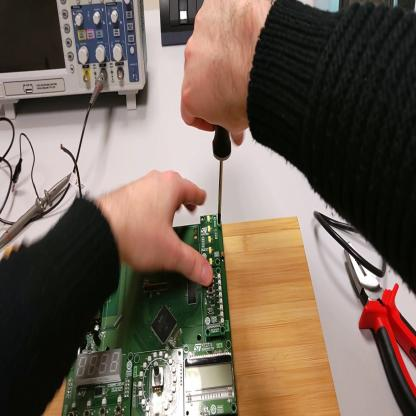hand: (179, 4, 276, 148), (112, 169, 212, 288)
low voltage board: (63, 214, 237, 415)
oscilloscope: (2, 2, 150, 117)
oscilloscope probe tip: (1, 174, 72, 247)
pliers: (345, 245, 416, 416)
screwdriver-: (212, 124, 232, 222)
welder station: (315, 1, 401, 16)
working area: (1, 217, 341, 416)
